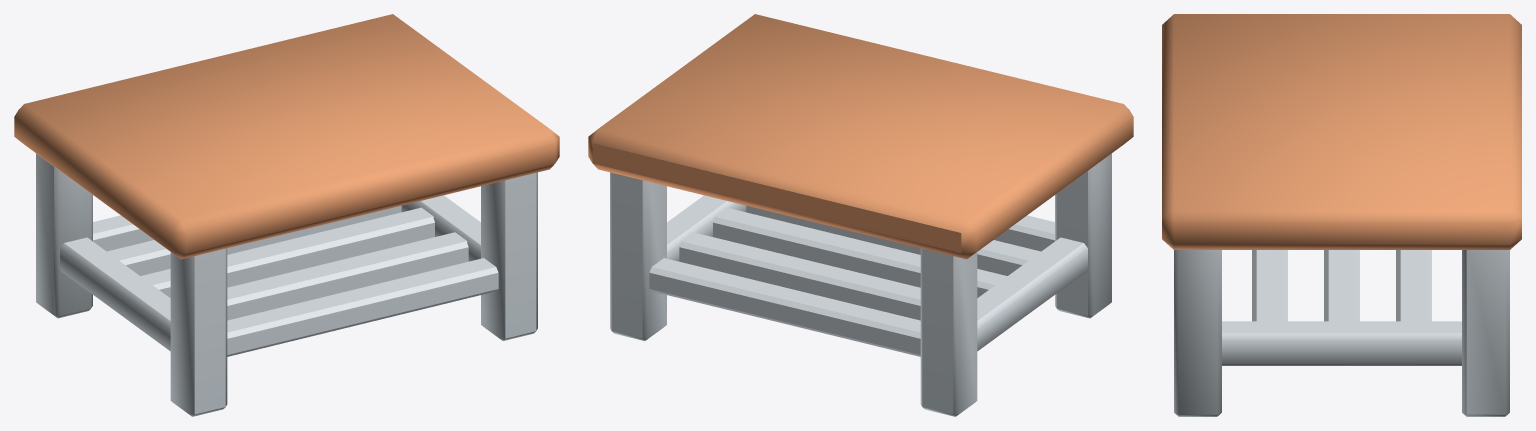
File: counter-table.glb
3 views of the same model, side by side, from view 1: azimuth 30°, elevation 25°; view 2: azimuth 150°, elevation 25°; view 3: azimuth 270°, elevation 25° (orthographic). The views are drawn at different scales.
Visible parts, largest first — view 1: counter_table; view 2: counter_table; view 3: counter_table.
Part boxes in pixels (x1,y1,x2,y2): counter_table: [14, 14, 559, 416]; counter_table: [588, 14, 1133, 416]; counter_table: [1162, 14, 1521, 416].
Size of the model in its own units: 2 by 1 by 1.5.
1 material, 1 textured.
